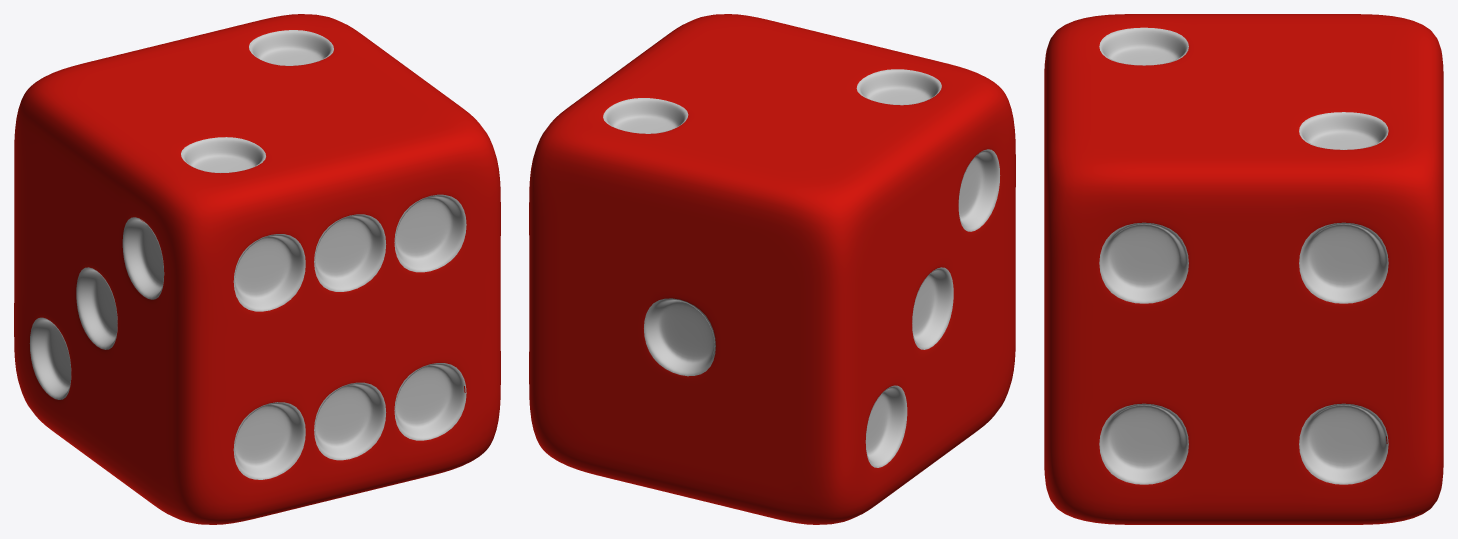
The model's file is dice.glb.
The picture shows the model from 3 angles, left to right: view 1: azimuth 30°, elevation 25°; view 2: azimuth 150°, elevation 25°; view 3: azimuth 270°, elevation 25°; orthographic projection. The views are drawn at different scales.
Visible parts, largest first — view 1: Cube; view 2: Cube; view 3: Cube.
Part boxes in pixels (box(x1,y1,x2,y2)): Cube: box(14, 14, 500, 524); Cube: box(529, 14, 1015, 524); Cube: box(1044, 14, 1443, 524).
Bounding box in the file's own units: 200 × 200 × 200.
